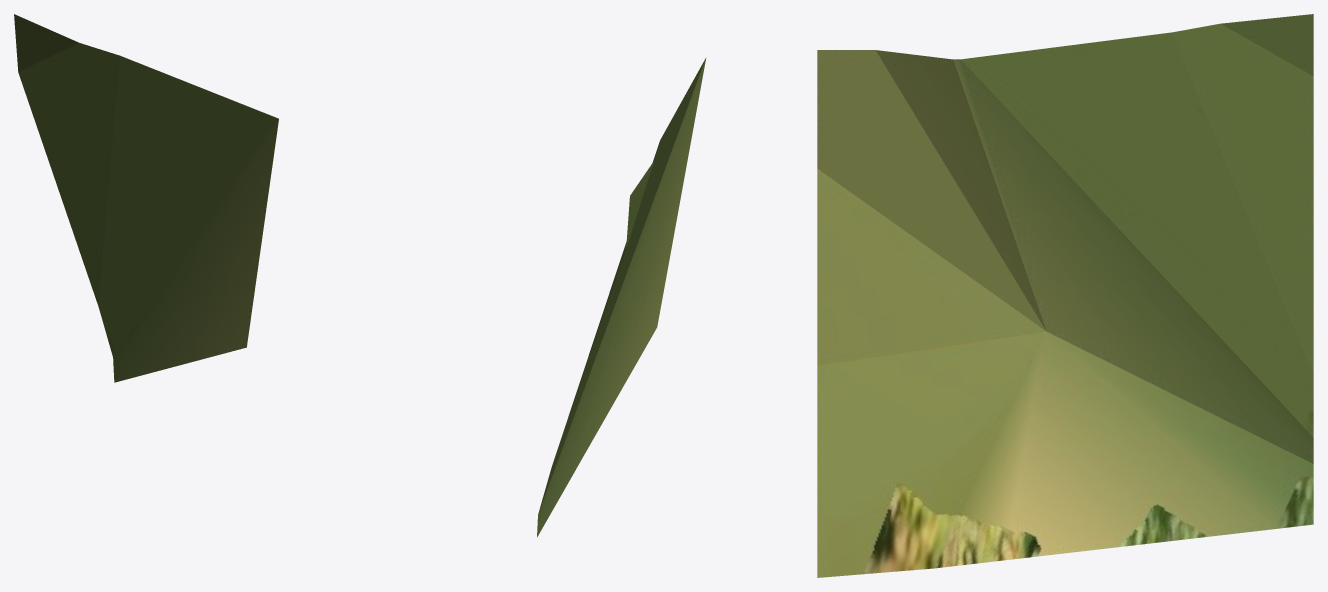
3 views of the same model, side by side, from view 1: azimuth 30°, elevation 25°; view 2: azimuth 150°, elevation 25°; view 3: azimuth 270°, elevation 25° (orthographic). The views are drawn at different scales.
Bounding box in the file's own units: 1.61 × 2.95 × 2.95.
3 materials, 3 textured.
